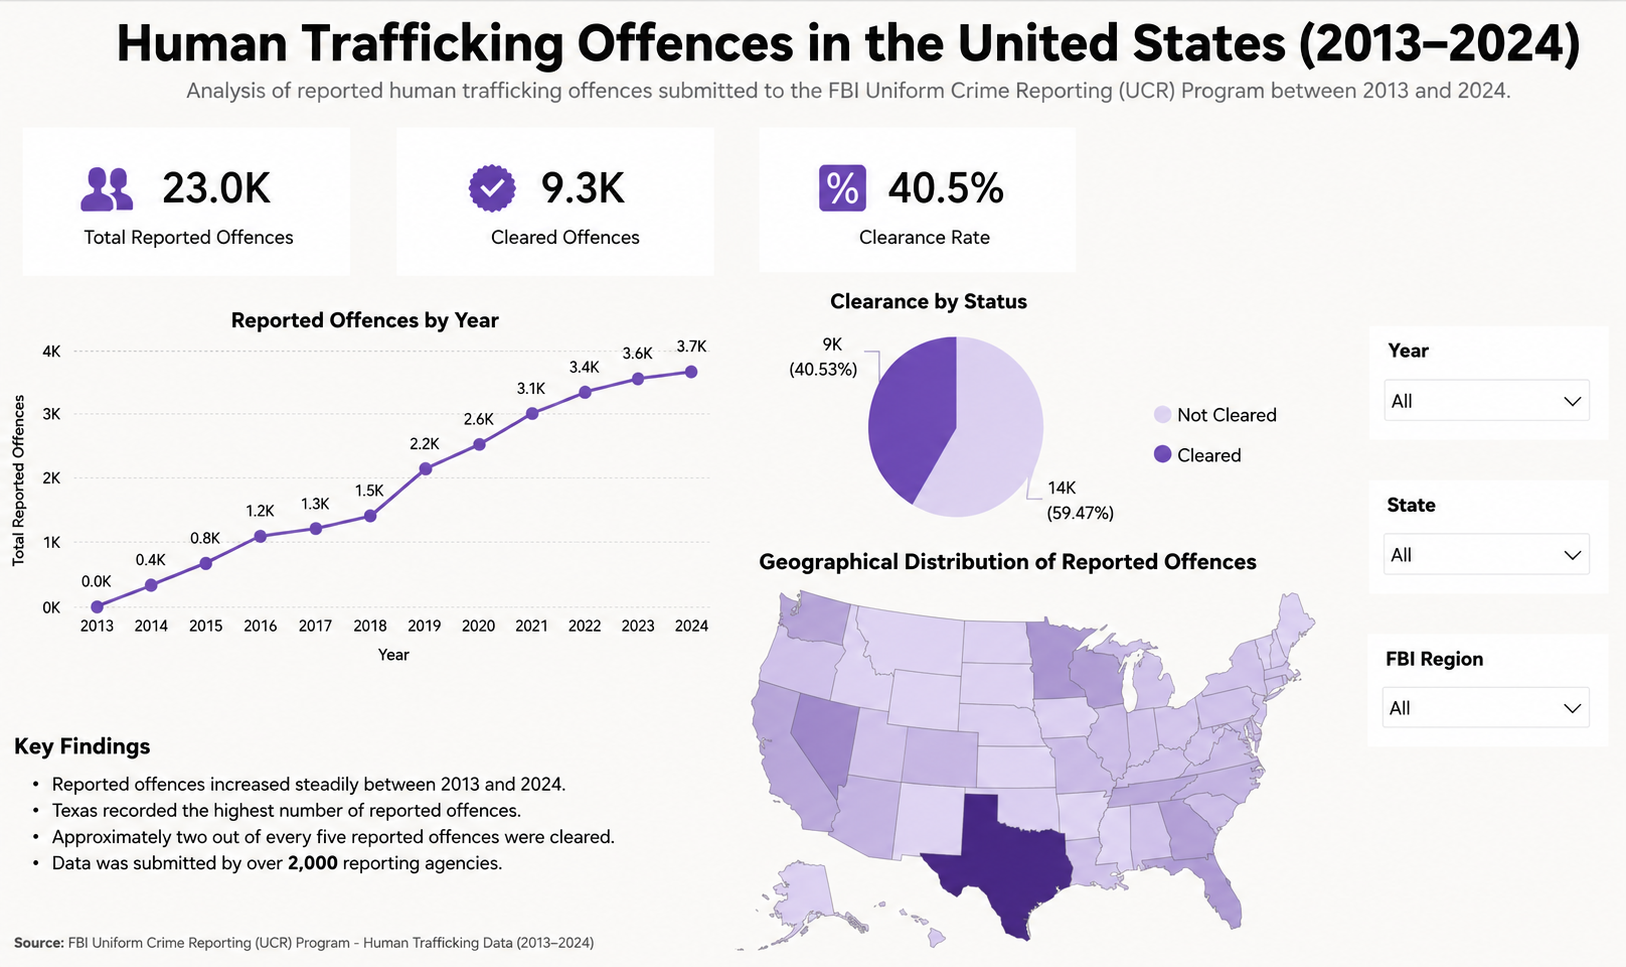

This screenshot's page, from the dashboard's own definition file:
{"tool":"powerbi","page":{"name":"Executive Overview","canvas":[1280,720],"ordinal":0},"visuals":[{"type":"textbox","box":[10,0,1270,94],"z":0},{"type":"cardVisual","fields":{"Data":["Human_Trafficking.Total Cases"]},"box":[50,100,234,105],"z":1000},{"type":"cardVisual","fields":{"Data":["Human_Trafficking.Total Cleared"]},"box":[341,100,234,105],"z":2000},{"type":"cardVisual","fields":{"Data":["Human_Trafficking.Clearance Rate"]},"box":[617,100,234,105],"z":3000},{"type":"lineChart","title":"Reported Offences by Year","fields":{"Category":["DimYear.DATA_YEAR"],"Y":["Human_Trafficking.Total Reported Offenses"]},"box":[0,242,523,253],"z":4000},{"type":"shapeMap","title":"Geographical Distribution of Reported Offences","fields":{"Category":["DimState.STATE_NAME"],"Value":["Human_Trafficking.Total Reported Offenses"]},"box":[548,398,503,322],"z":5000},{"type":"slicer","fields":{"Values":["DimYear.DATA_YEAR"]},"box":[1073,318,180,80],"z":6000},{"type":"slicer","fields":{"Values":["DimState.state_name"]},"box":[1073,415,180,80],"z":7000},{"type":"slicer","fields":{"Values":["Human_Trafficking.REGION_NAME"]},"box":[1073,525,180,80],"z":8000},{"type":"textbox","box":[0,690,496,30],"z":9000},{"type":"textbox","box":[0,565,548,125],"z":10000},{"type":"image","box":[69,129,50,35],"z":11000},{"type":"image","box":[375,129,50,35],"z":12000},{"type":"image","box":[640,129,50,35],"z":13000},{"type":"pieChart","fields":{"Category":["Clearance Status.Status"],"Y":["Human_Trafficking.Clearance Status Value"]},"box":[583,218,399,171],"z":13001}]}

Visuals, with their boxes on the page's 1280x720 design canvas (x1, y1, x2, y2). These are canvas units, not pixel positions in the 1626x967 screenshot, which may show the page scaled, cropped or inside an application window:
textbox: (10,0,1280,94)
cardVisual - Human_Trafficking.Total Cases: (50,100,284,205)
cardVisual - Human_Trafficking.Total Cleared: (341,100,575,205)
cardVisual - Human_Trafficking.Clearance Rate: (617,100,851,205)
"Reported Offences by Year" lineChart: (0,242,523,495)
"Geographical Distribution of Reported Offences" shapeMap: (548,398,1051,720)
slicer - DimYear.DATA_YEAR: (1073,318,1253,398)
slicer - DimState.state_name: (1073,415,1253,495)
slicer - Human_Trafficking.REGION_NAME: (1073,525,1253,605)
textbox: (0,690,496,720)
textbox: (0,565,548,690)
image: (69,129,119,164)
image: (375,129,425,164)
image: (640,129,690,164)
pieChart - Clearance Status.Status x Human_Trafficking.Clearance Status Value: (583,218,982,389)
